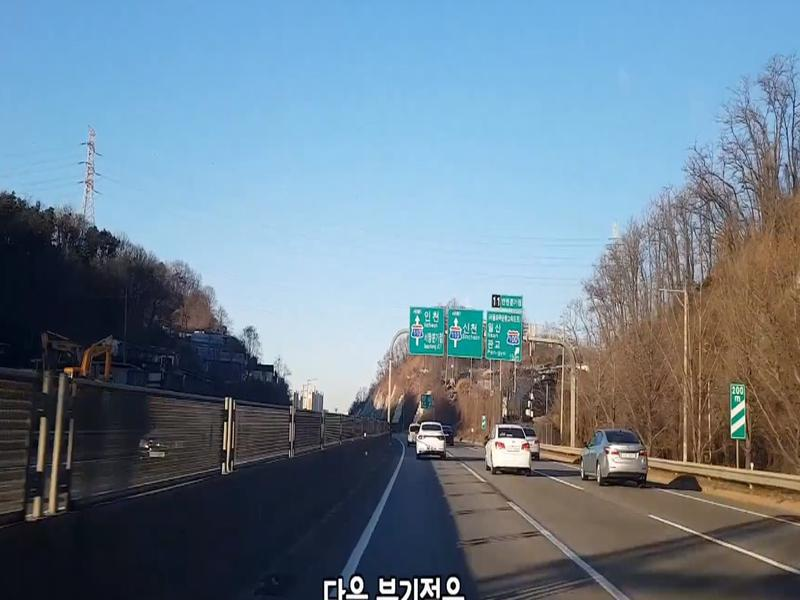car: (578, 430, 648, 482), (484, 424, 532, 473), (418, 422, 445, 457)
lane: (508, 498, 620, 593), (648, 515, 786, 565), (348, 458, 402, 574), (460, 464, 483, 480)
